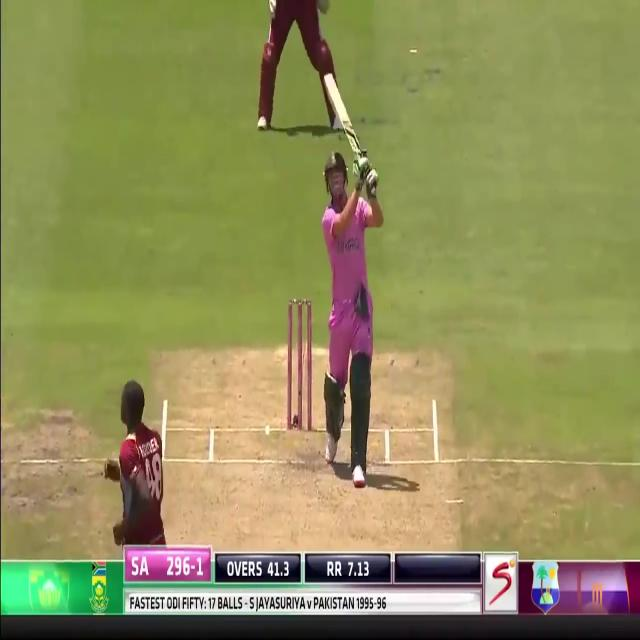Ball: (322, 148, 376, 465)
Fielder: (246, 0, 346, 132), (117, 386, 166, 544)
